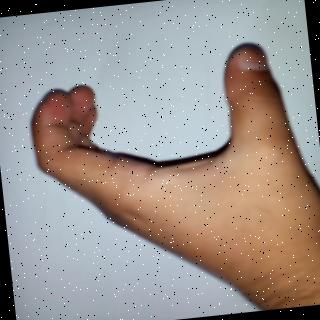C: (20, 32, 308, 266)
